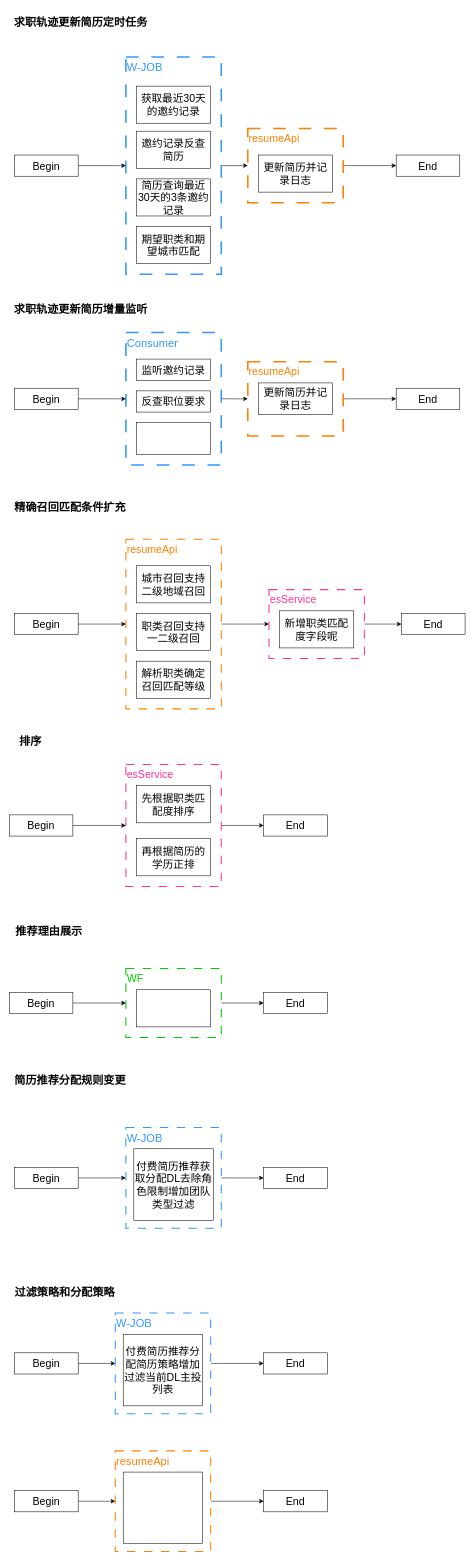
This 474x1561 diagram has some shape labels left out. Here are the shapes that lost their labels. From the top down, the centre of each, then its label:
the point at 173,438: 职类和地域匹配
the point at 173,1008: 简历线索页面增加推荐理由返回字段
the point at 163,1508: 付费简历推荐过滤策略移除主投策略
